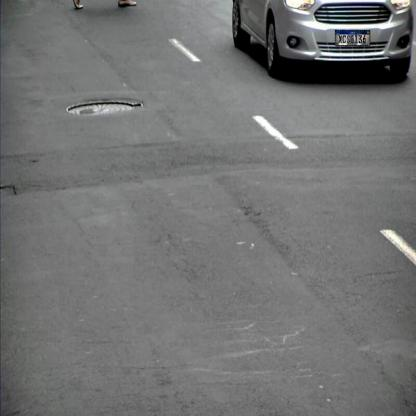PlacaM: (335, 30, 370, 46)
